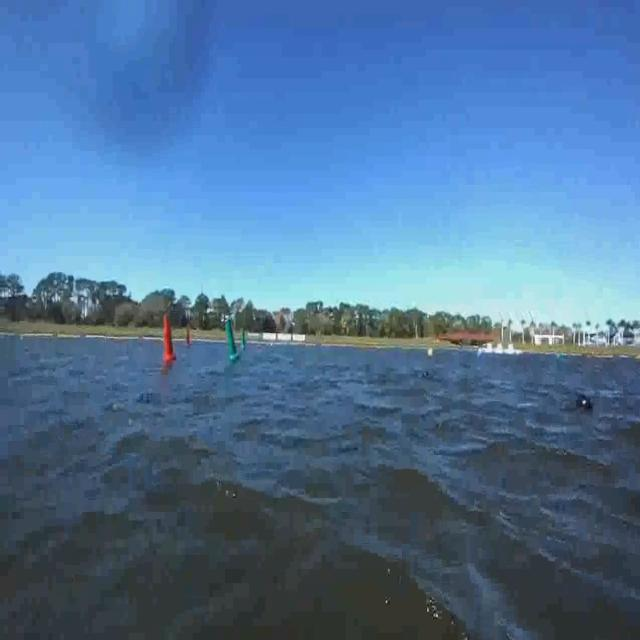blue-buoy: (575, 391, 592, 415)
green-column-buoy: (226, 321, 242, 364), (242, 331, 248, 351)
red-column-buoy: (163, 315, 177, 362), (185, 330, 192, 348)
yellow-buoy: (426, 346, 435, 360)
